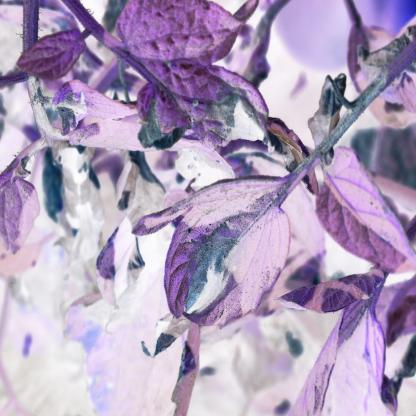Tomato leaf late blight: (153, 173, 293, 347), (118, 33, 265, 163)
